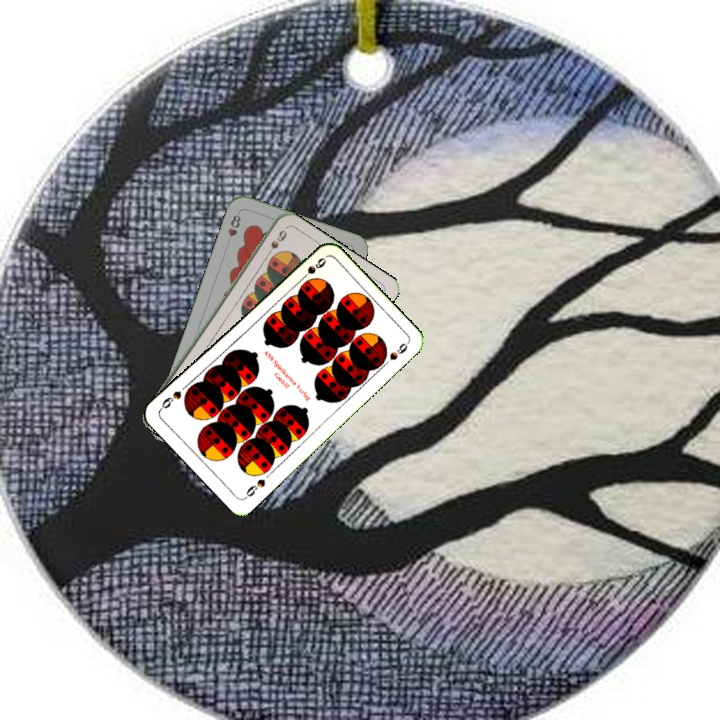H8: (223, 211, 243, 248)
S9: (295, 253, 329, 285), (261, 226, 288, 261), (241, 475, 268, 502)
